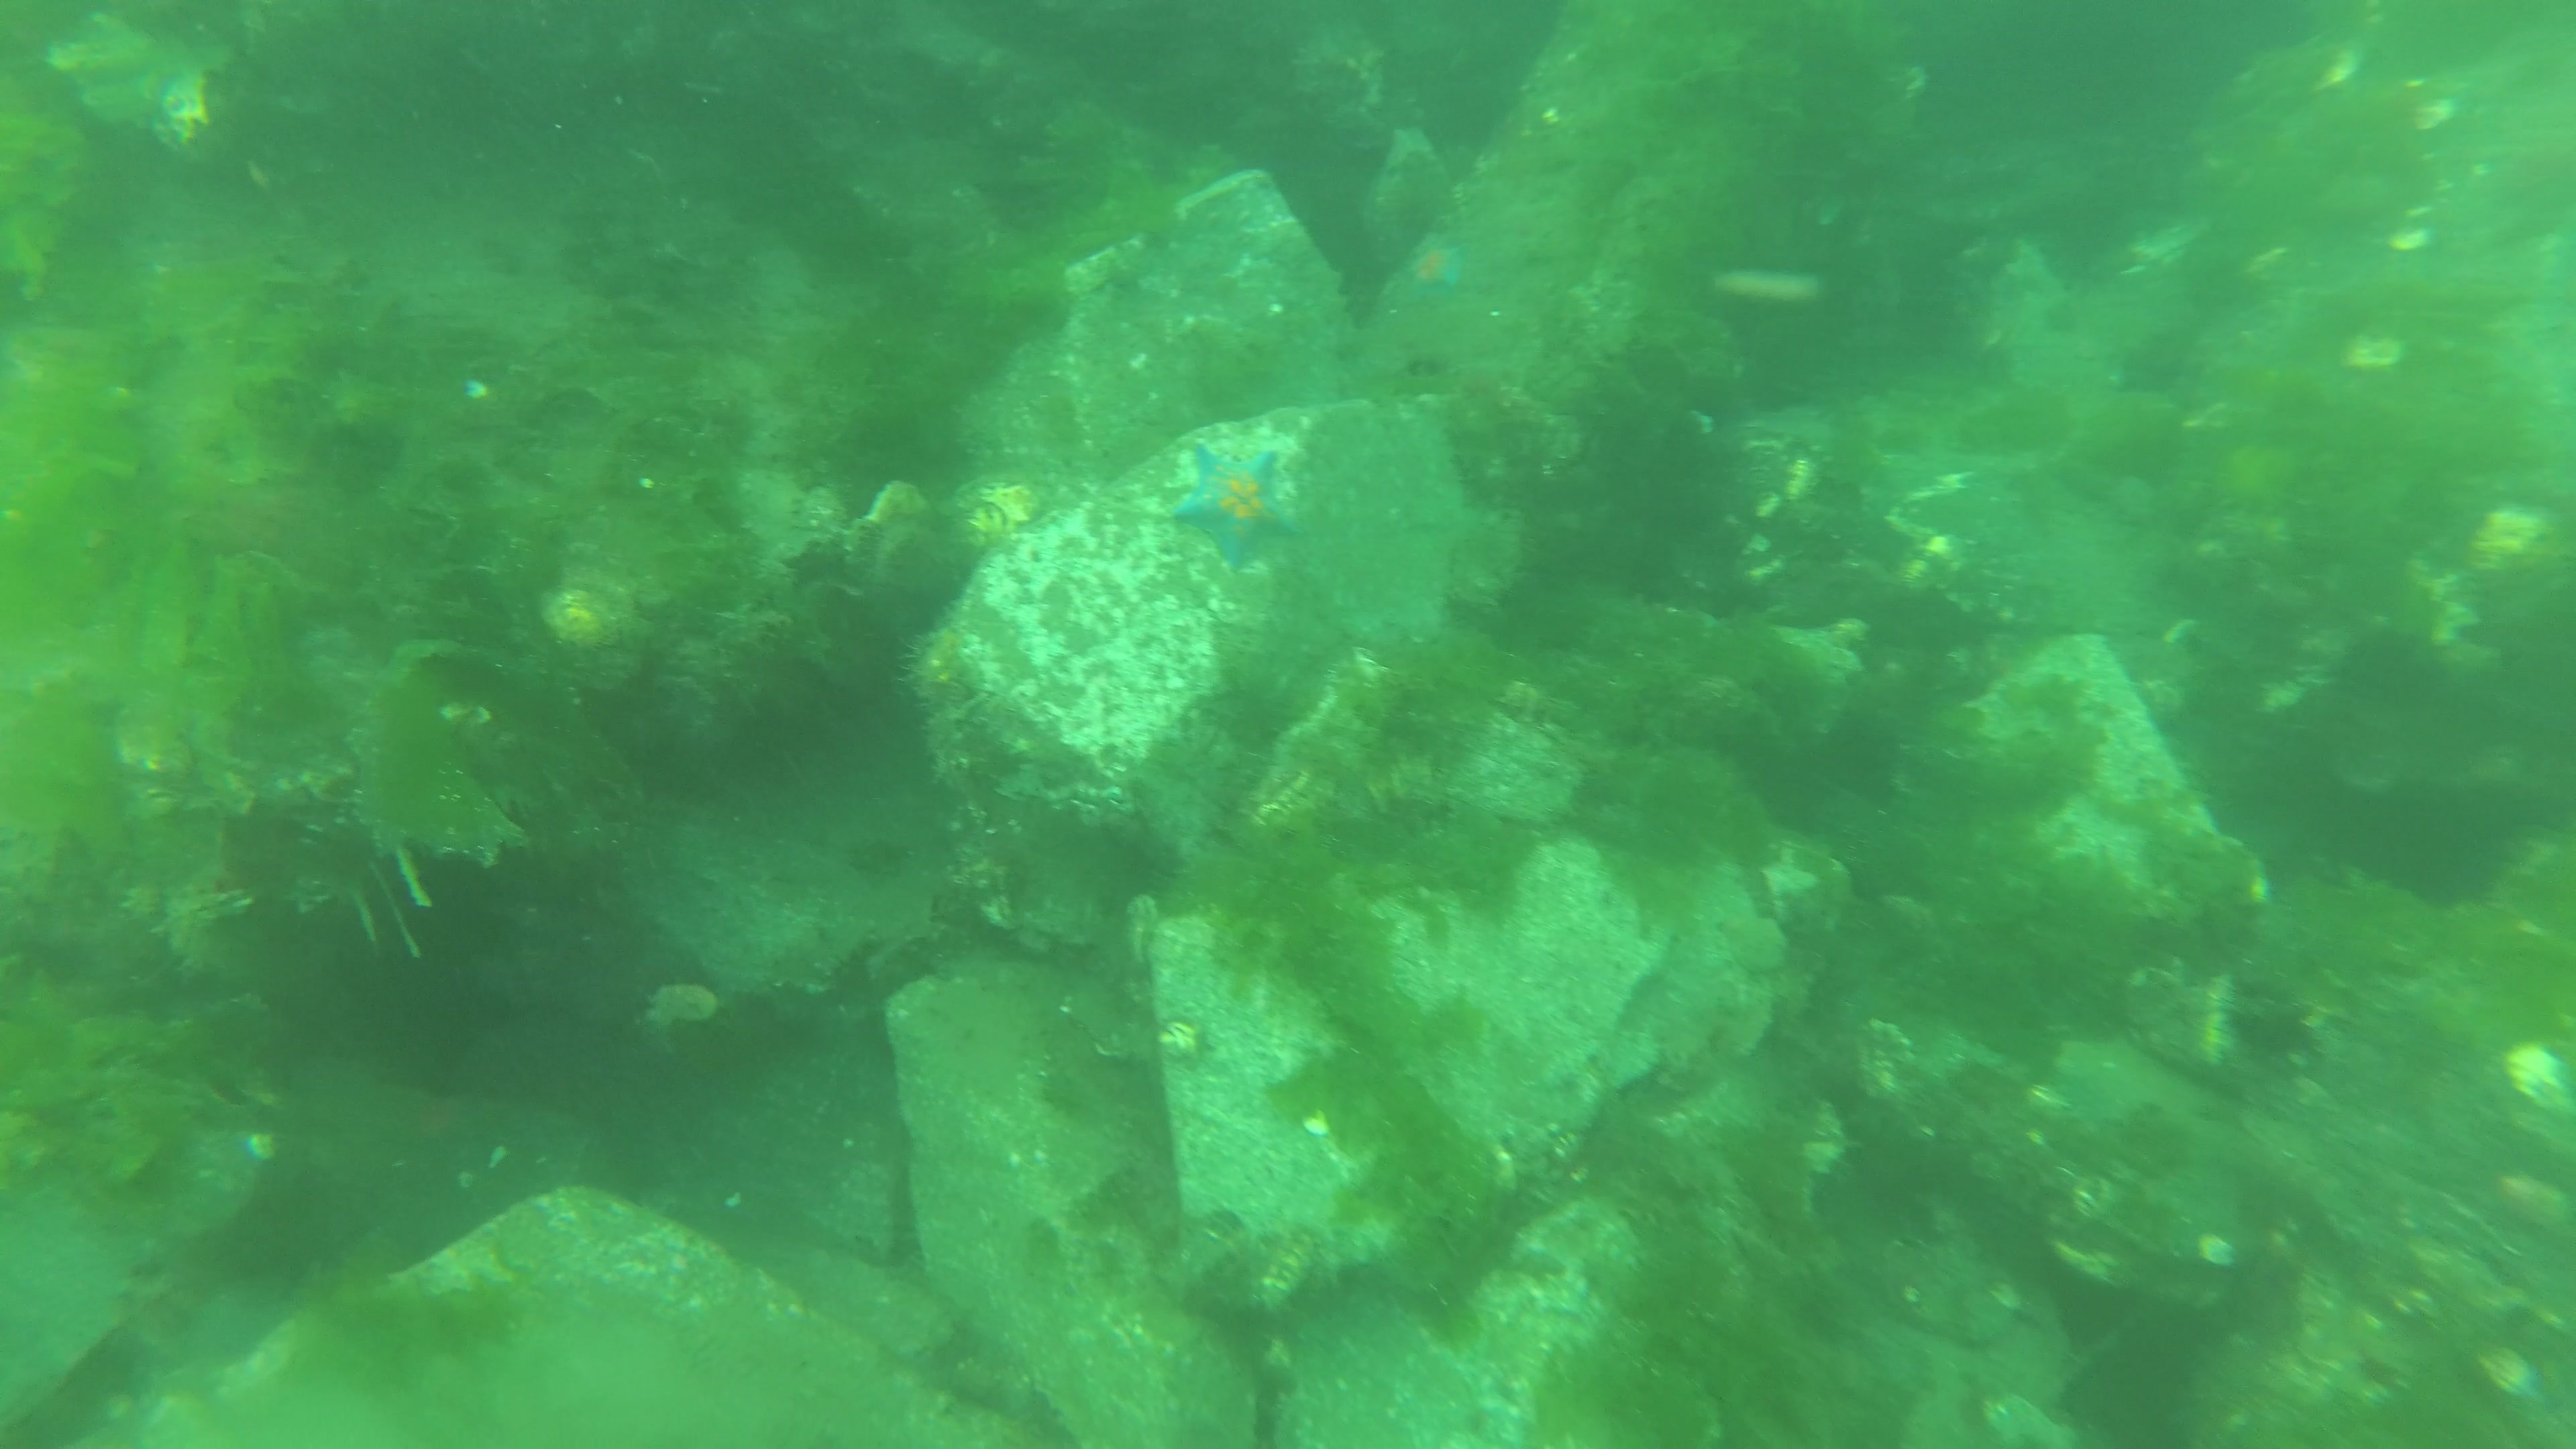starfish: (1166, 435, 1304, 573), (1399, 241, 1472, 306)
